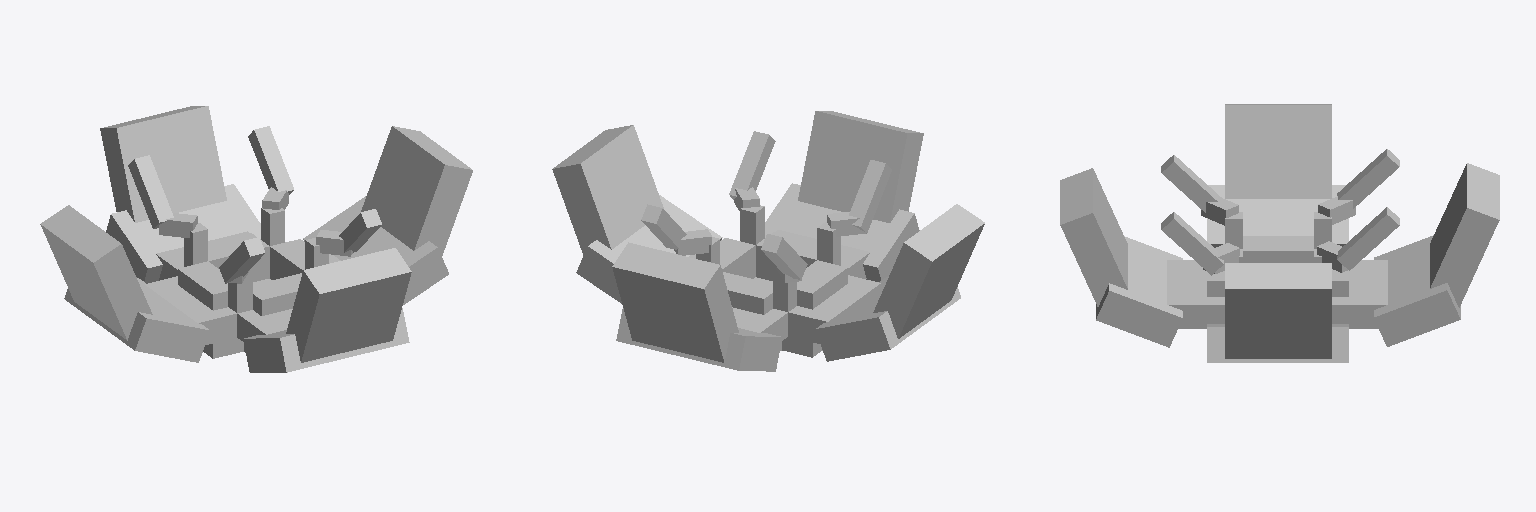
File: locolis_seed_ground.obj
The picture shows the model from 3 angles: view 1: azimuth 30°, elevation 25°; view 2: azimuth 150°, elevation 25°; view 3: azimuth 270°, elevation 25°; orthographic projection.
Visible parts, largest first — view 1: Top, Mid, Bot, West, North-West Top, North-East Top, South, East, North, South-West Top, South-East Top, North-East Bot (+4 smaller); view 2: Top, Mid, Bot, West, South-West Top, North, South-East Top, East, North-West Top, North-East Top, South, South-East Bot (+4 smaller); view 3: Top, Mid, Bot, West, North-East Top, South-East Top, North-West Top, South-West Top, North-West Mid, South-West Mid, South-West Bot, North-West Bot.
Boxes of the visible parts, x1=… form: Top: x1=40, y1=106, x2=472, y2=362; Mid: x1=64, y1=184, x2=448, y2=372; Bot: x1=145, y1=231, x2=340, y2=344; West: x1=178, y1=261, x2=243, y2=358; North-West Top: x1=128, y1=155, x2=173, y2=228; North-East Top: x1=248, y1=126, x2=293, y2=194; South: x1=244, y1=273, x2=301, y2=352; East: x1=270, y1=239, x2=332, y2=279; North: x1=208, y1=233, x2=269, y2=281; South-West Top: x1=219, y1=237, x2=264, y2=283; South-East Top: x1=339, y1=209, x2=381, y2=252; North-East Bot: x1=261, y1=208, x2=284, y2=245; Top: x1=552, y1=111, x2=984, y2=362; Mid: x1=576, y1=183, x2=960, y2=371; Bot: x1=689, y1=230, x2=880, y2=343; West: x1=782, y1=260, x2=847, y2=357; South-West Top: x1=849, y1=160, x2=891, y2=233; North: x1=723, y1=272, x2=781, y2=350; South-East Top: x1=729, y1=131, x2=775, y2=199; East: x1=720, y1=238, x2=755, y2=278; North-West Top: x1=761, y1=234, x2=807, y2=279; North-East Top: x1=641, y1=204, x2=686, y2=249; South: x1=756, y1=232, x2=816, y2=280; South-East Bot: x1=740, y1=205, x2=764, y2=244; Top: x1=1060, y1=104, x2=1499, y2=358; Mid: x1=1096, y1=185, x2=1460, y2=362; Bot: x1=1167, y1=260, x2=1387, y2=328; West: x1=1243, y1=236, x2=1313, y2=262; North-East Top: x1=1337, y1=207, x2=1399, y2=270; South-East Top: x1=1161, y1=212, x2=1223, y2=275; North-West Top: x1=1337, y1=149, x2=1399, y2=208; South-West Top: x1=1161, y1=155, x2=1221, y2=212; North-West Mid: x1=1318, y1=196, x2=1355, y2=224; South-West Mid: x1=1201, y1=196, x2=1238, y2=225; South-West Bot: x1=1225, y1=212, x2=1242, y2=248; North-West Bot: x1=1314, y1=212, x2=1331, y2=248.
Bounding box in the file's own units: 0.7733 × 0.2895 × 0.7743.